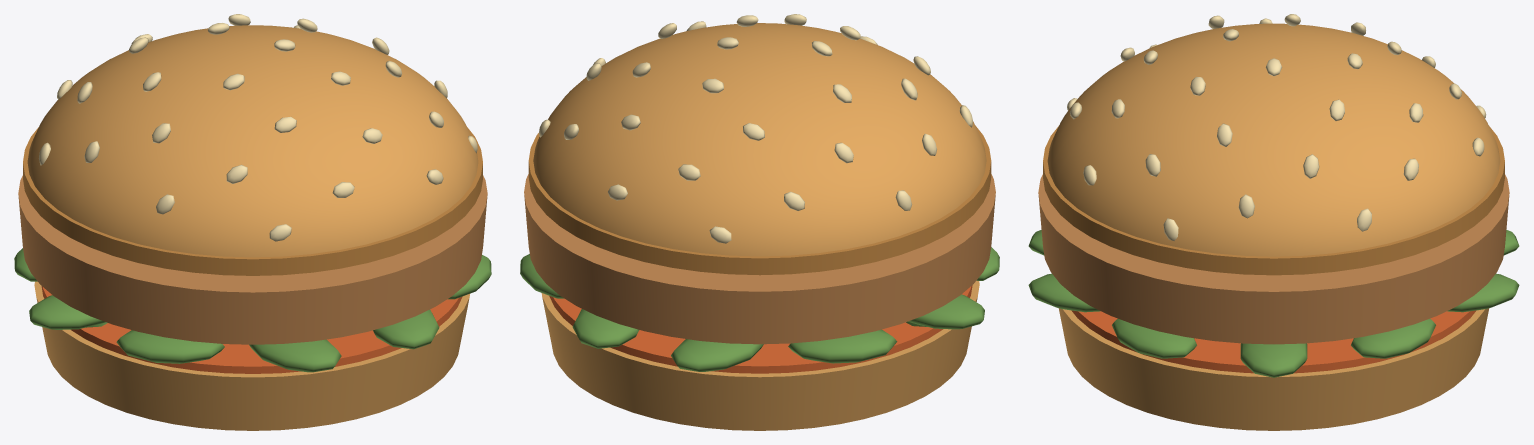
Rendered from burger-chicken.glb.
3 renders of one model, left to right at view 1: azimuth 30°, elevation 25°; view 2: azimuth 150°, elevation 25°; view 3: azimuth 270°, elevation 25°, orthographic.
Visible parts, largest first — view 1: TopBun, burger-chicken, Patty, Lettuce, Sesame; view 2: TopBun, burger-chicken, Patty, Lettuce, Sesame; view 3: TopBun, burger-chicken, Patty, Lettuce, Sesame.
Part boxes in pixels (left/top/right/bottom): TopBun: left=27, top=25, right=478, bottom=257; burger-chicken: left=23, top=127, right=482, bottom=430; Patty: left=18, top=175, right=487, bottom=344; Lettuce: left=14, top=248, right=491, bottom=372; Sesame: left=39, top=14, right=477, bottom=241; TopBun: left=533, top=23, right=986, bottom=256; burger-chicken: left=528, top=125, right=991, bottom=430; Patty: left=524, top=174, right=995, bottom=344; Lettuce: left=520, top=247, right=999, bottom=371; Sesame: left=539, top=14, right=972, bottom=243; TopBun: left=1047, top=23, right=1500, bottom=256; burger-chicken: left=1043, top=126, right=1504, bottom=430; Patty: left=1038, top=174, right=1509, bottom=344; Lettuce: left=1028, top=229, right=1519, bottom=377; Sesame: left=1067, top=14, right=1486, bottom=240.
Bounding box in the file's own units: 2.23 × 1.42 × 2.13.
